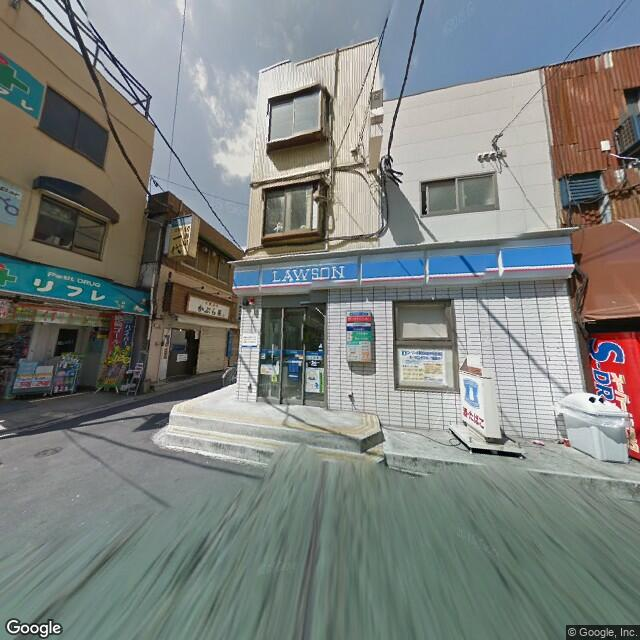lawson: (230, 228, 577, 296)
